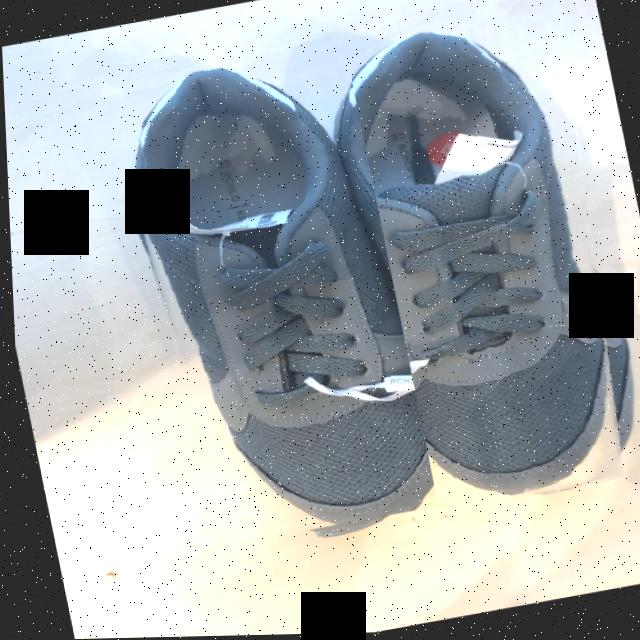shoe: (326, 29, 615, 501), (131, 67, 426, 524)
